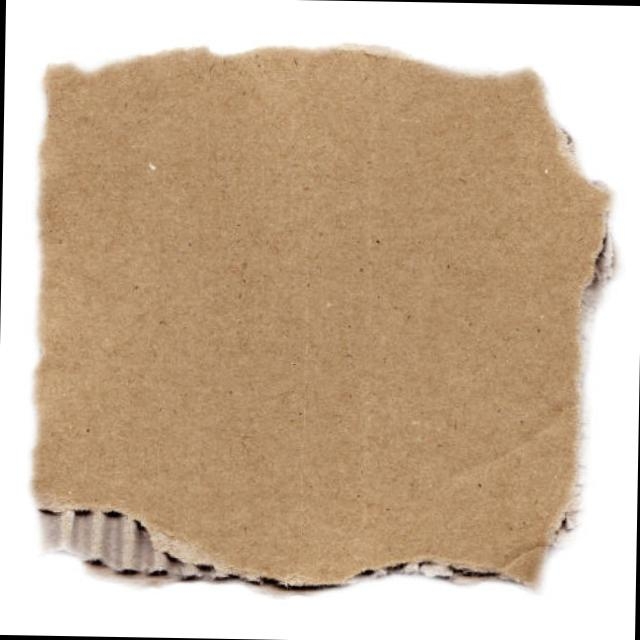electronic: (26, 36, 616, 595)
